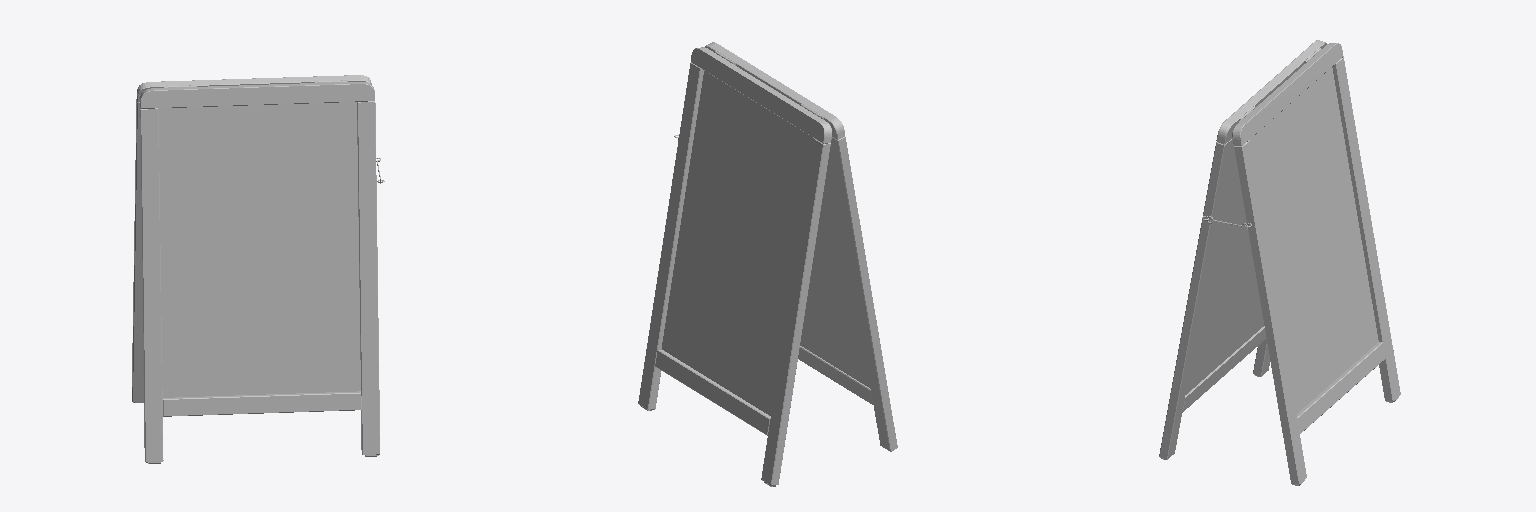
Rendered from menu.obj.
3 views of the same model, side by side, from view 1: azimuth 30°, elevation 25°; view 2: azimuth 150°, elevation 25°; view 3: azimuth 270°, elevation 25° (orthographic).
Size of the model in its own units: 72.75 by 100 by 63.43.